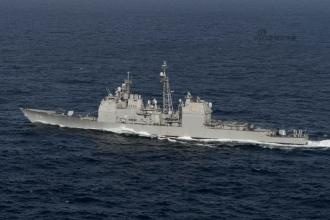warship: (20, 62, 316, 146)
